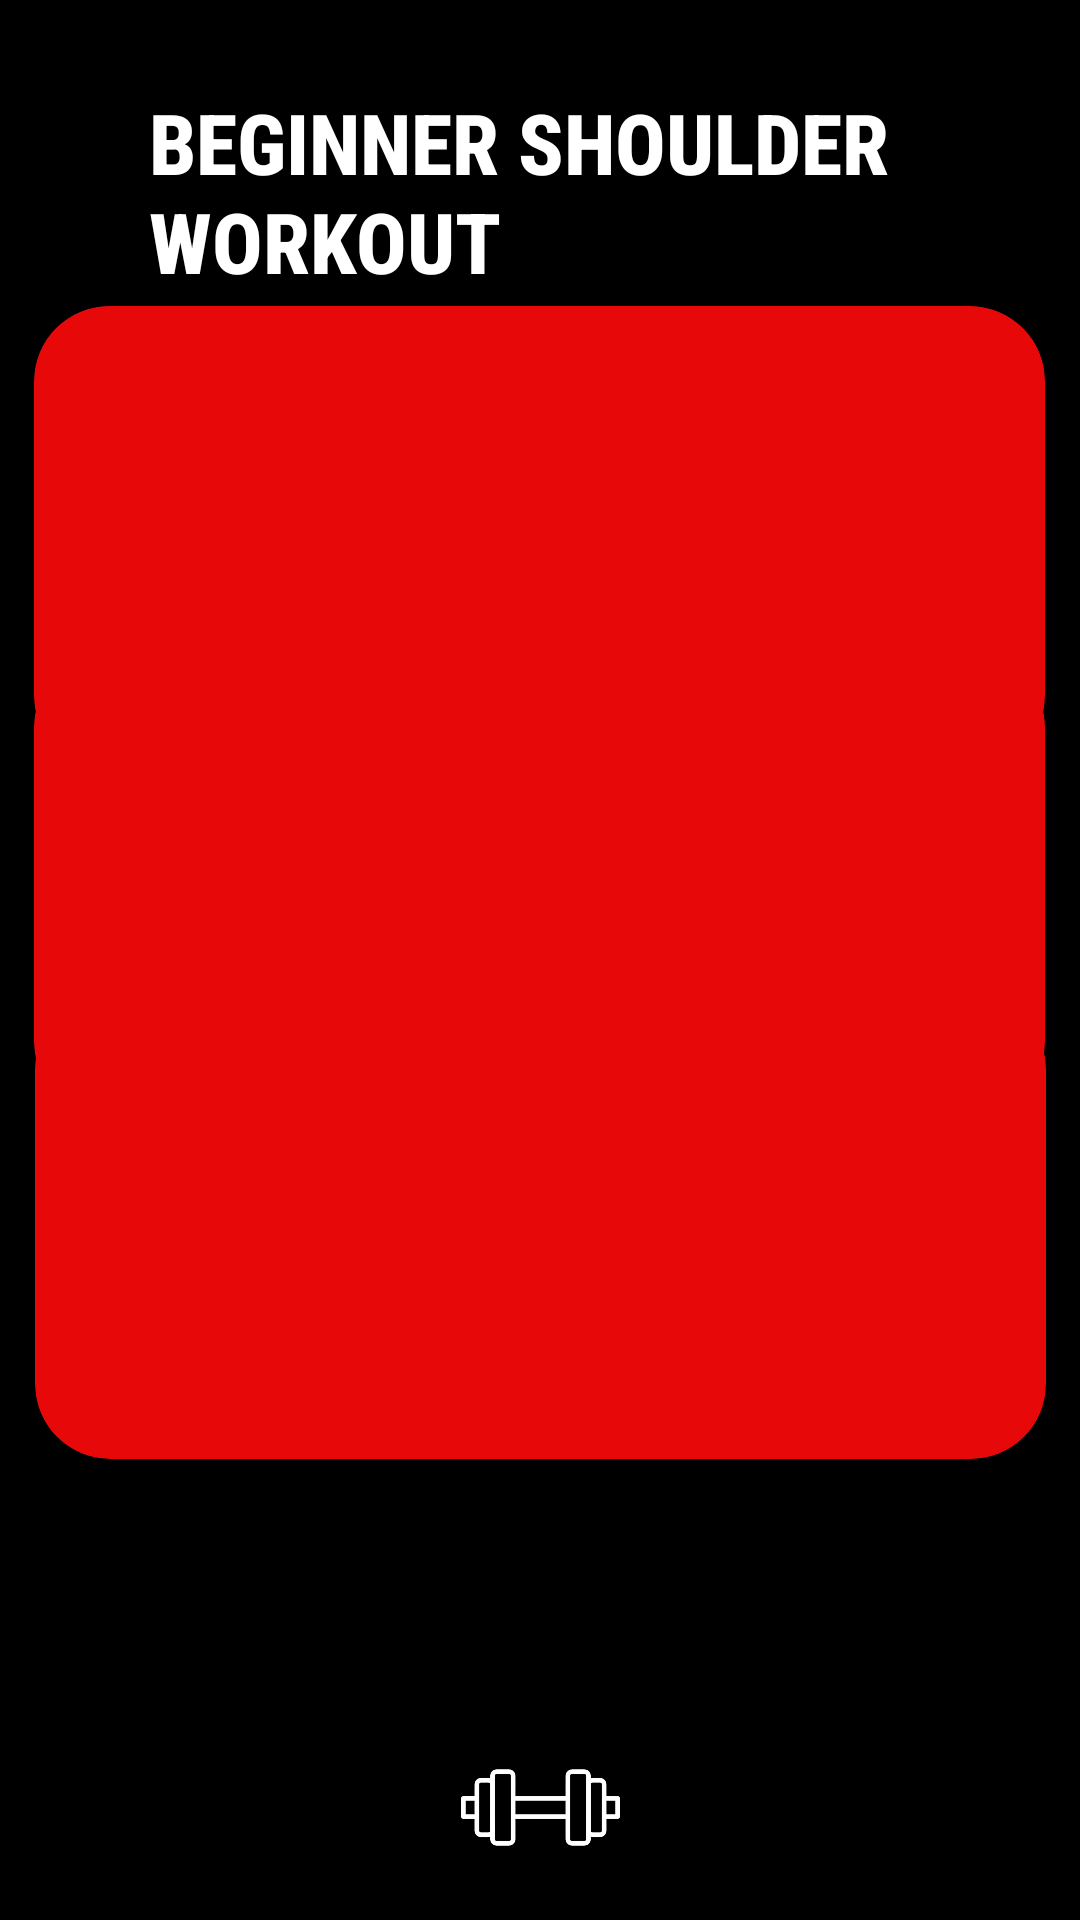

Locate icon controls on the screen. Image size 1080*1920, boxes as bbox=(x1, y1, x2, y2).
imgdumbell: bbox=(461, 1769, 620, 1846)
